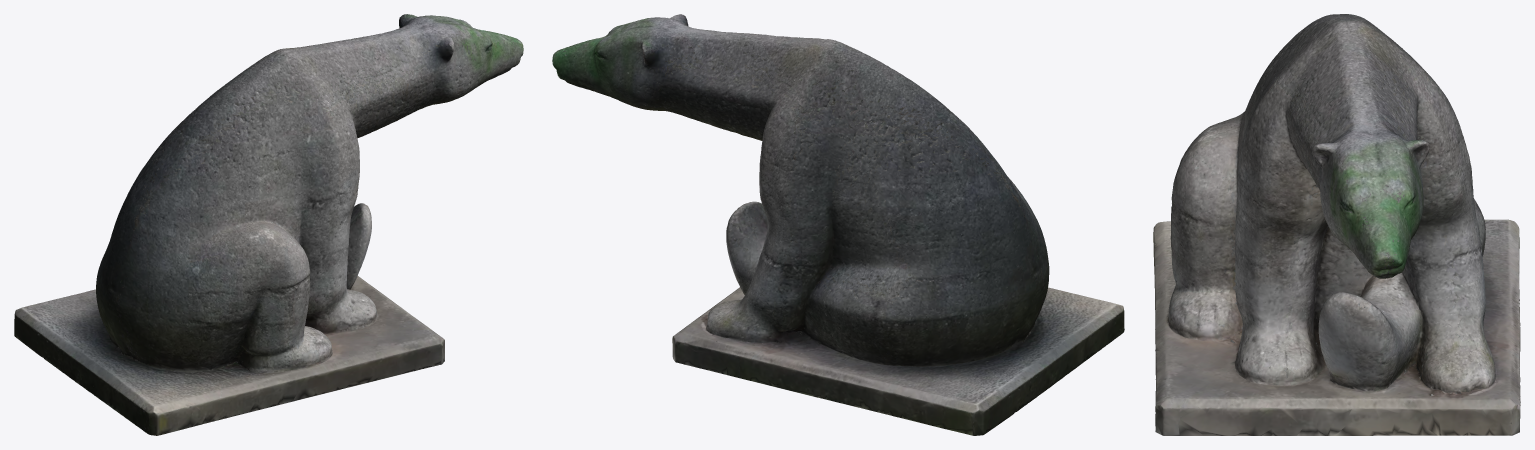
File: preview.glb
3 views of the same model, side by side, from view 1: azimuth 30°, elevation 25°; view 2: azimuth 150°, elevation 25°; view 3: azimuth 270°, elevation 25° (orthographic). The views are drawn at different scales.
Parts seen in each view (by area): view 1: Object_2; view 2: Object_2; view 3: Object_2.
Boxes of the visible parts, x1,y1,x2,y2 form: Object_2: (14,14,523,435); Object_2: (552,14,1124,435); Object_2: (1153,14,1520,435).
Bounding box in the file's own units: 2.42 × 1.4 × 1.3.
1 material, 1 textured.
